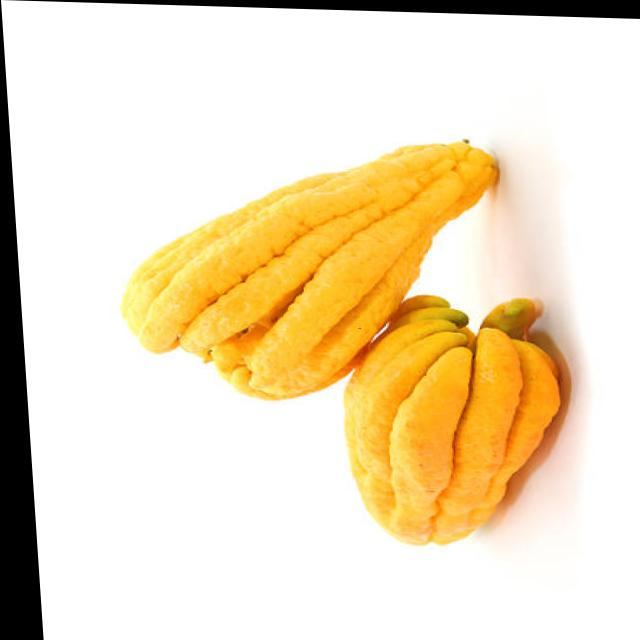PhatThu: (108, 134, 506, 403), (333, 289, 566, 552)
